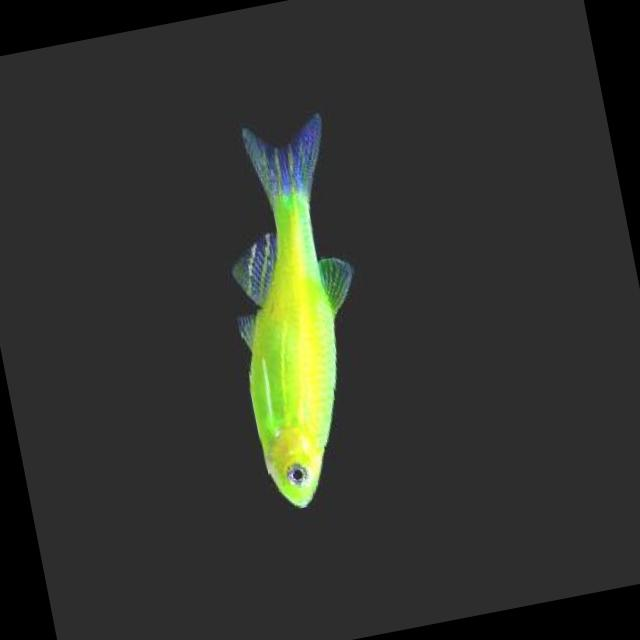ZebraFish: (196, 118, 398, 514)
